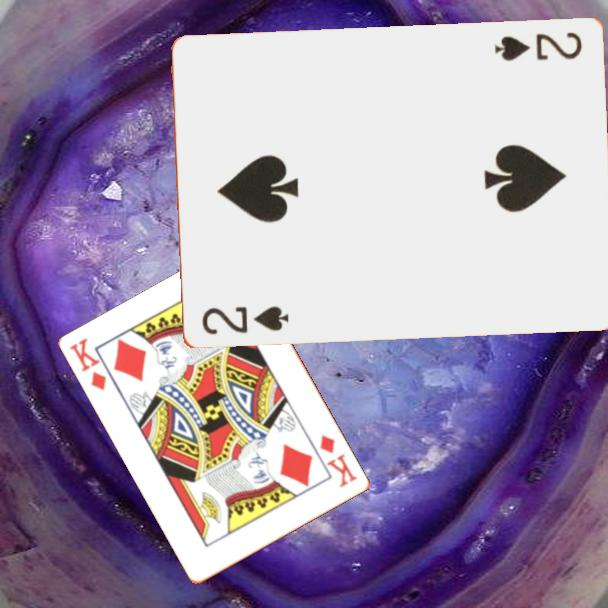d13: (66, 335, 110, 394), (317, 431, 360, 491)
s02: (491, 29, 585, 65), (197, 303, 292, 338)
